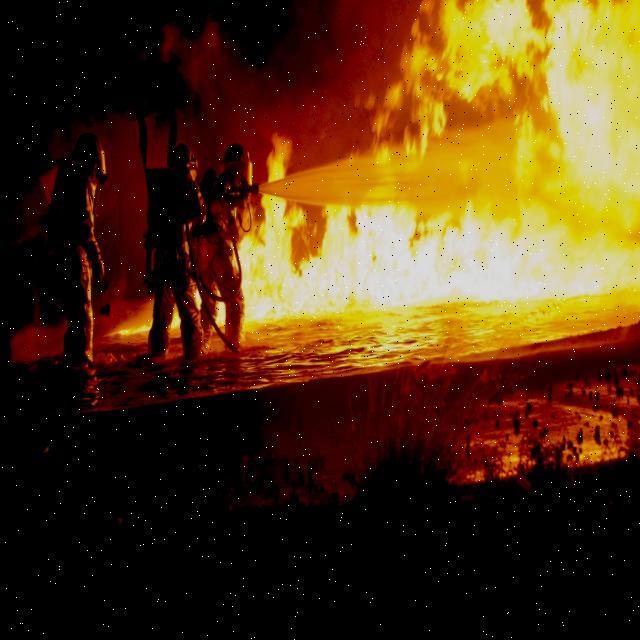Fire: (79, 0, 639, 354)
